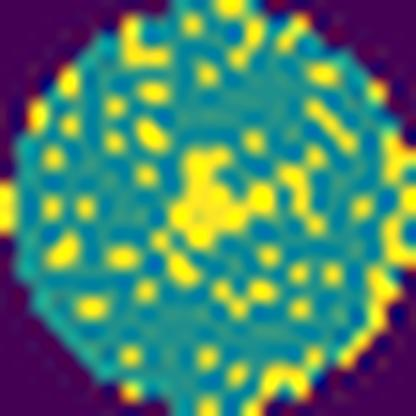Center: (161, 140, 283, 257)
